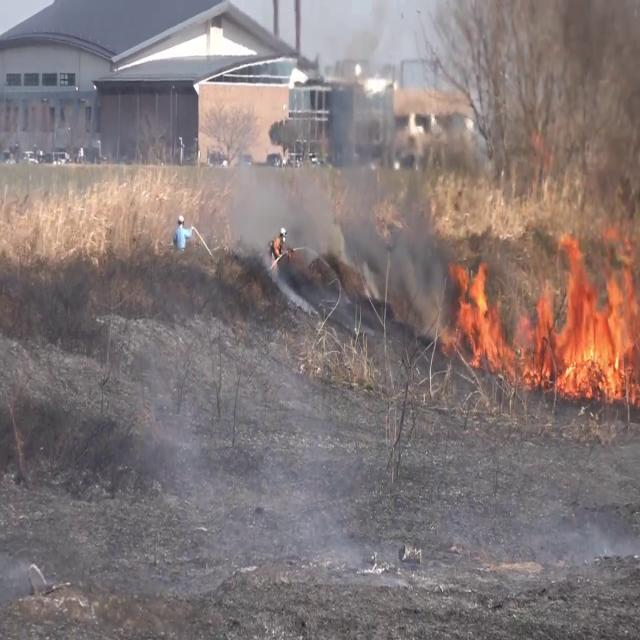Fire: (522, 230, 640, 404), (443, 248, 510, 374)
